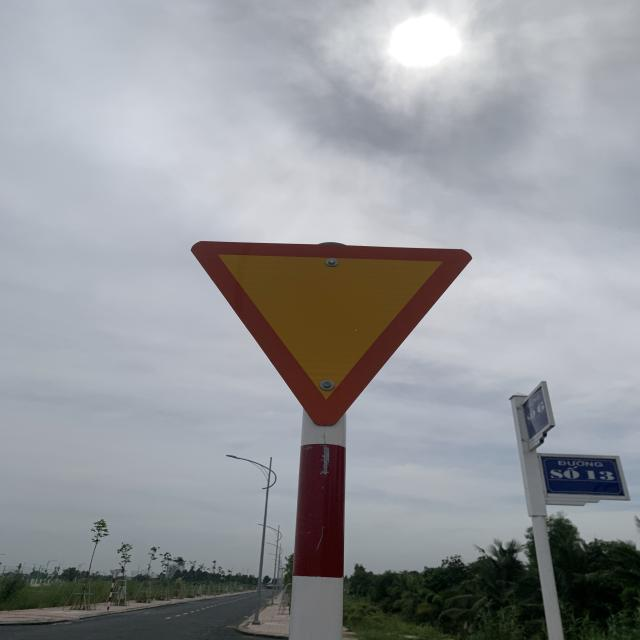Gioi_Han_Toc_Do_25: (193, 240, 469, 430)
